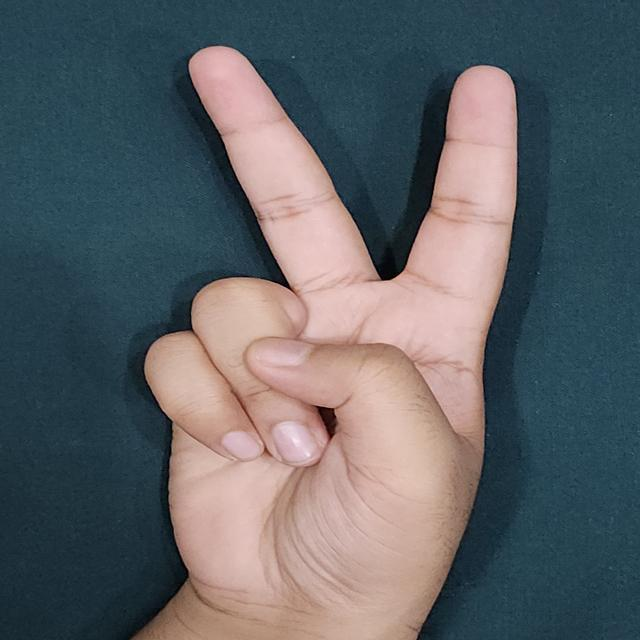پ: (134, 40, 533, 640)
